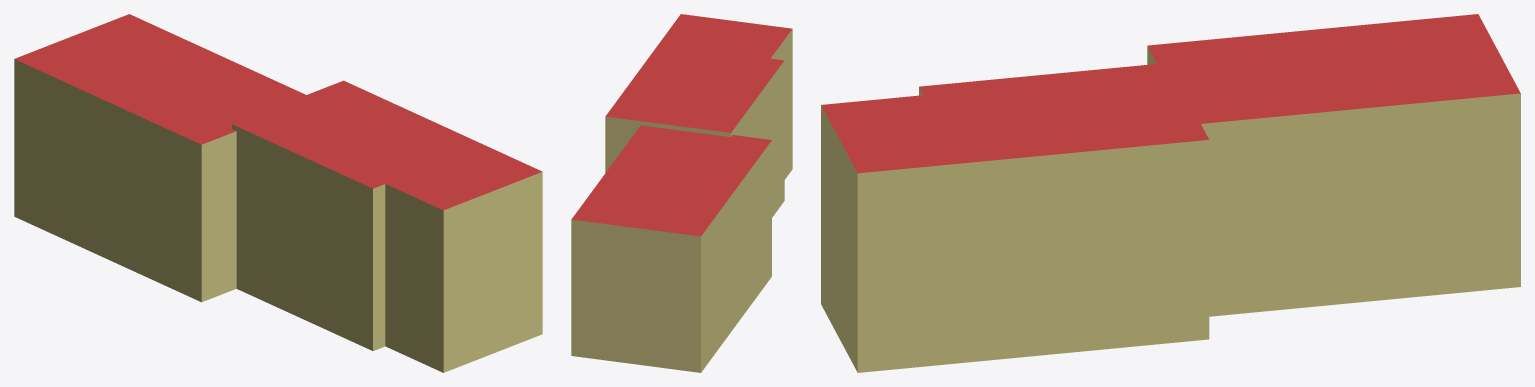
3 renders of one model, left to right at view 1: azimuth 30°, elevation 25°; view 2: azimuth 150°, elevation 25°; view 3: azimuth 270°, elevation 25°, orthographic. The views are drawn at different scales.
Parts seen in each view (by area): view 1: group_4, group_7, group_3, group_6; view 2: group_7, group_3, group_6, group_4; view 3: group_4, group_7, group_3, group_6.
Boxes of the visible parts, x1,y1,x2,y2 form: group_4: [232, 124, 542, 372]; group_7: [14, 59, 236, 302]; group_3: [232, 80, 542, 210]; group_6: [15, 14, 305, 144]; group_7: [571, 140, 771, 372]; group_3: [605, 14, 792, 132]; group_6: [571, 125, 771, 236]; group_4: [605, 29, 792, 217]; group_4: [821, 87, 1209, 372]; group_7: [1147, 46, 1520, 316]; group_3: [821, 63, 1208, 173]; group_6: [1147, 14, 1520, 123].
Bounding box in the file's own units: 35.13 × 62.8 × 19.77.
